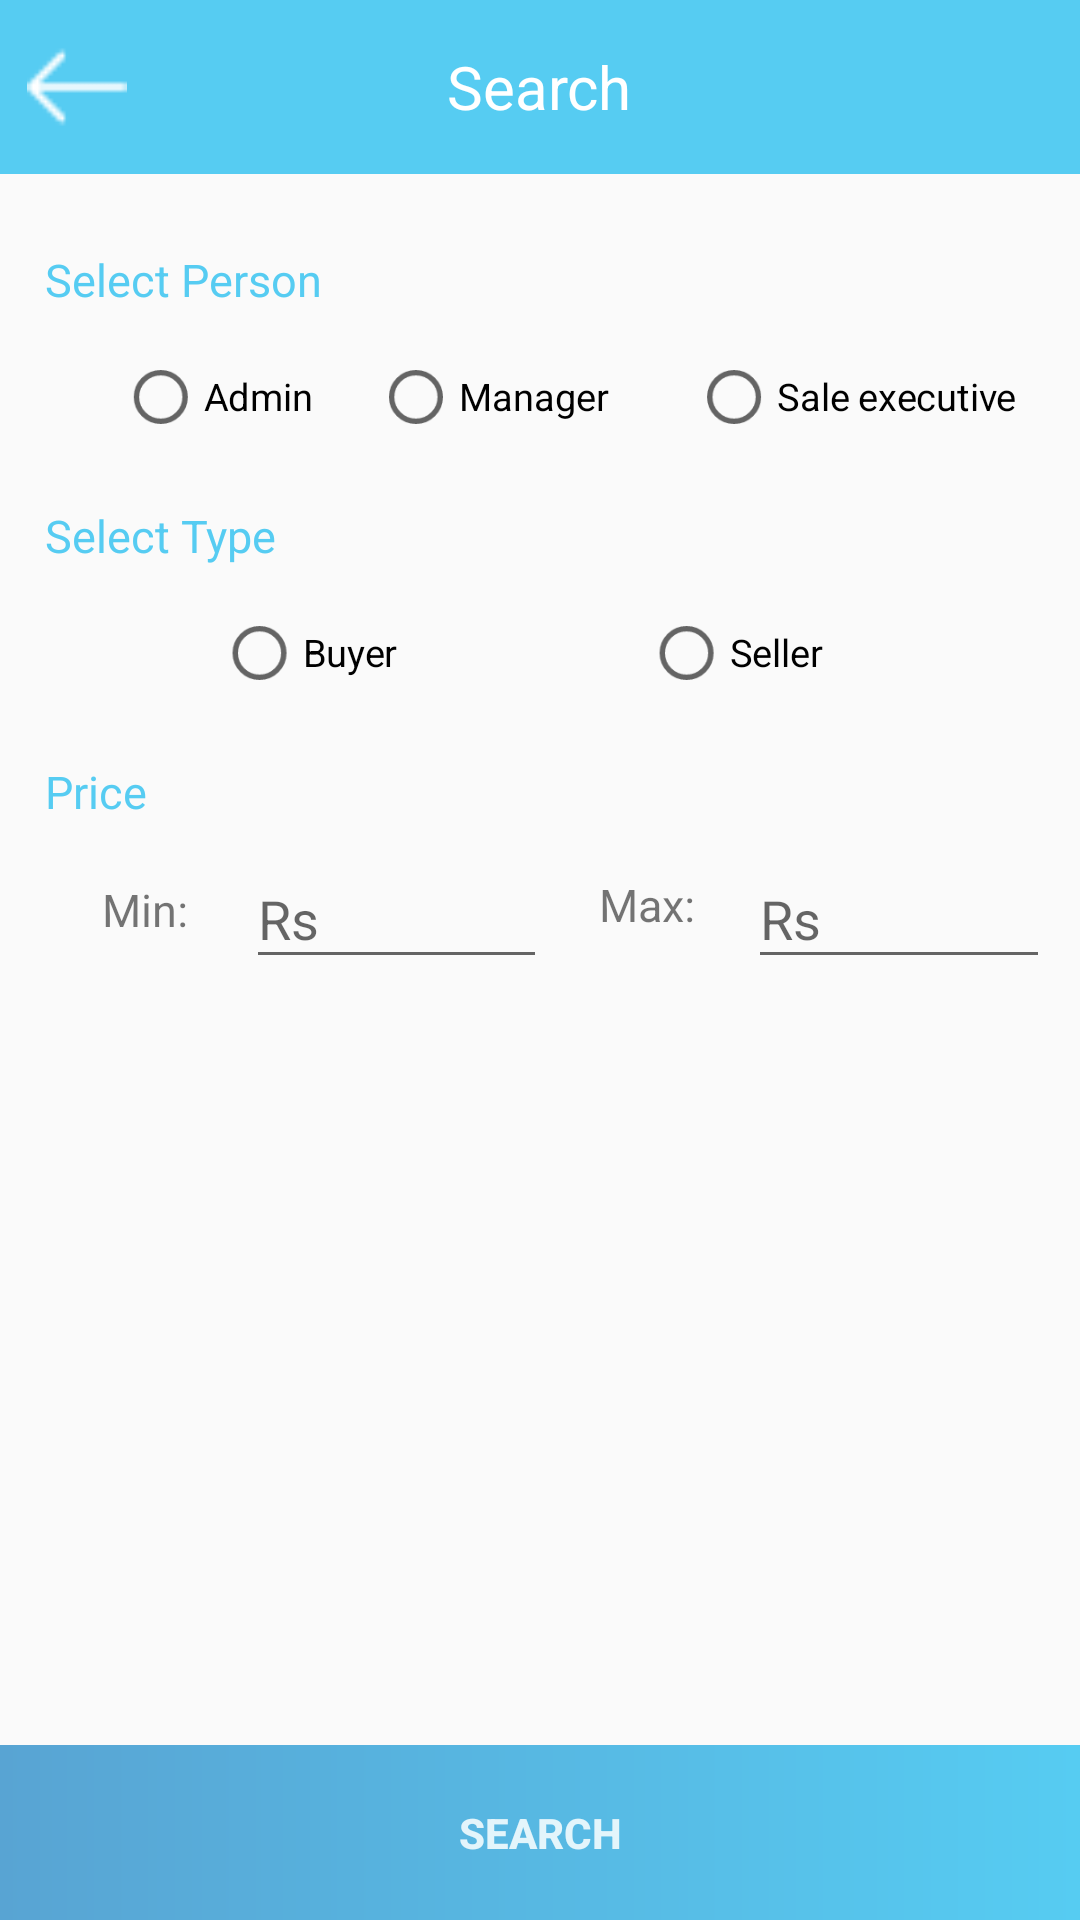

Icon click points for this 1080 × 1920 phone screenshot, format [x,y]:
back arrow: [77,87]
